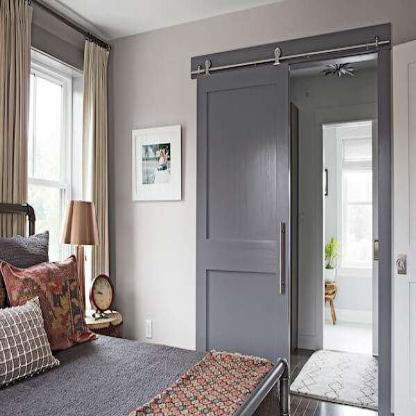door: (196, 61, 287, 350)
